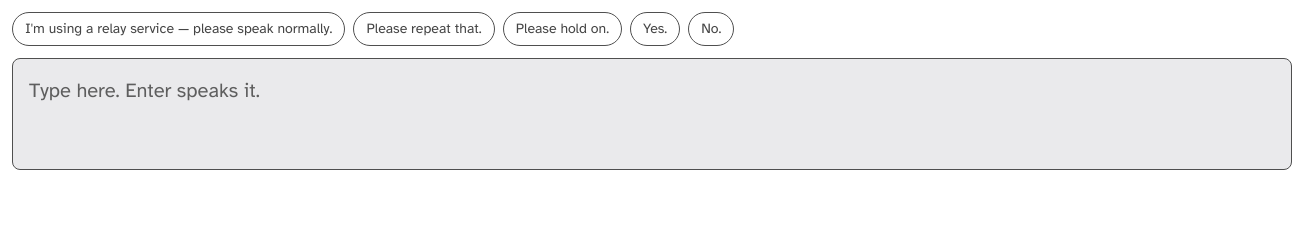
Composer typo correction › puts the typo back when the correction is undone
In the text box named "type what you want said": (652, 114) [12,58,1292,170], type "teh "
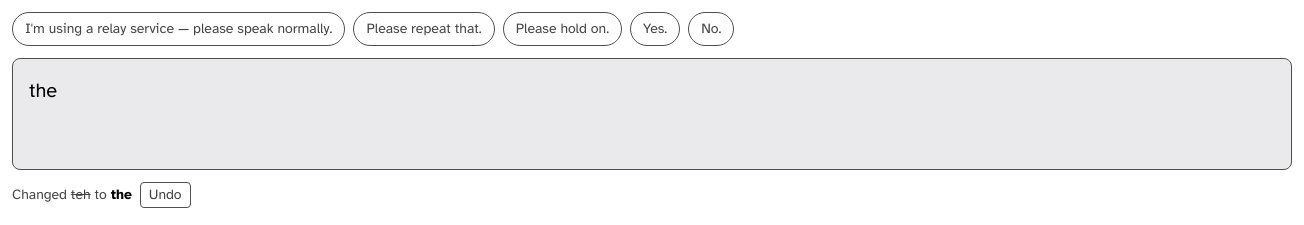
Click the button "Undo": (165, 195) [140,182,191,208]
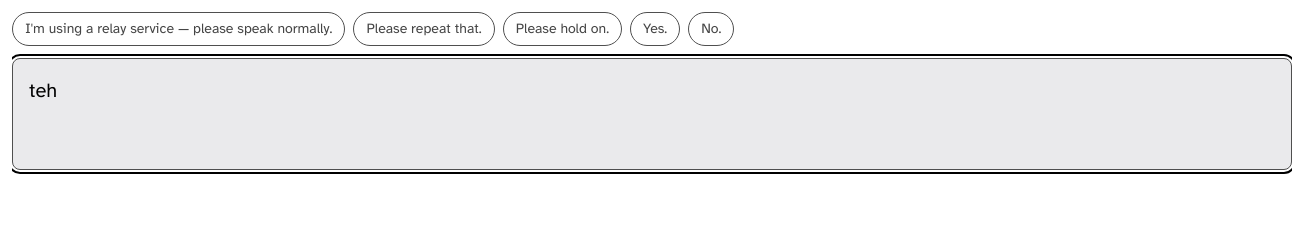
Now the text "Changed" is gone
